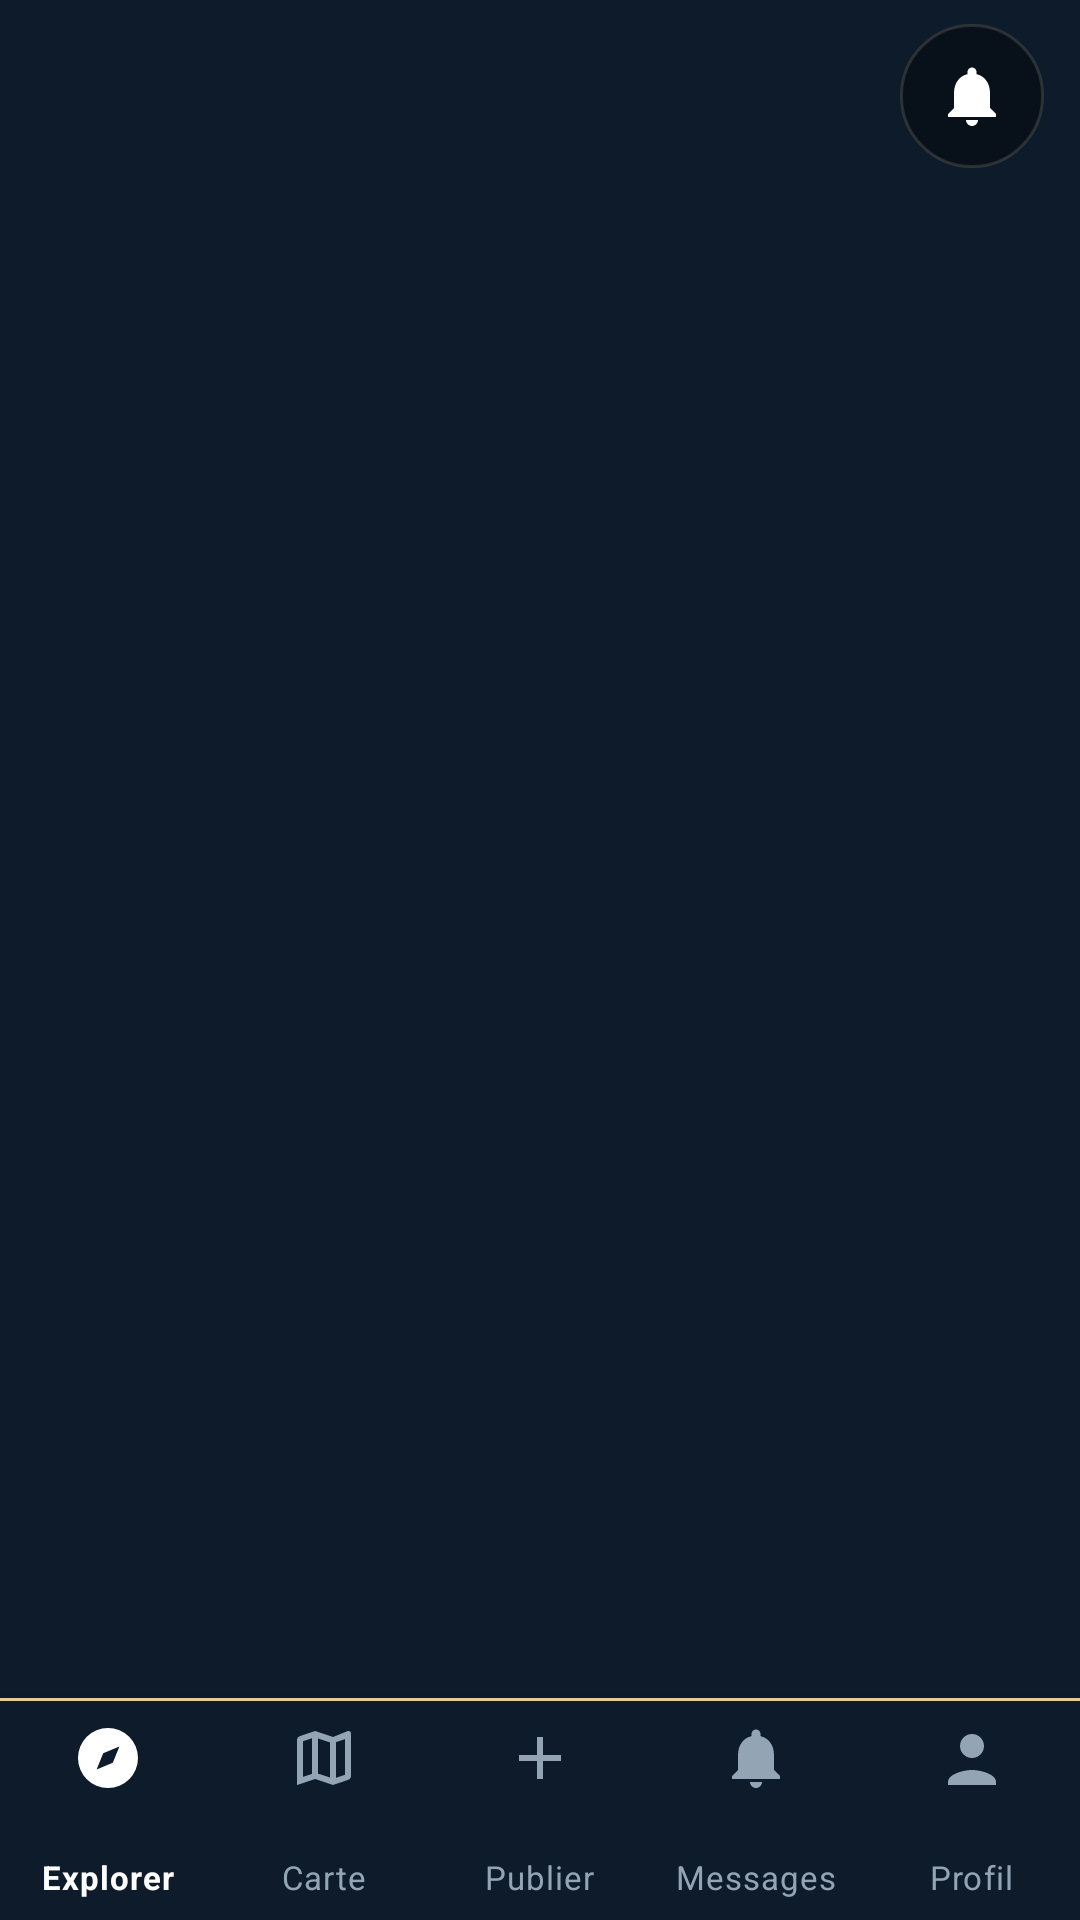

Screen size 1080*1920. Icon name, then its box in pixels as (x1, y1, x2, y2):
Notifications: (900, 24, 1044, 168)
